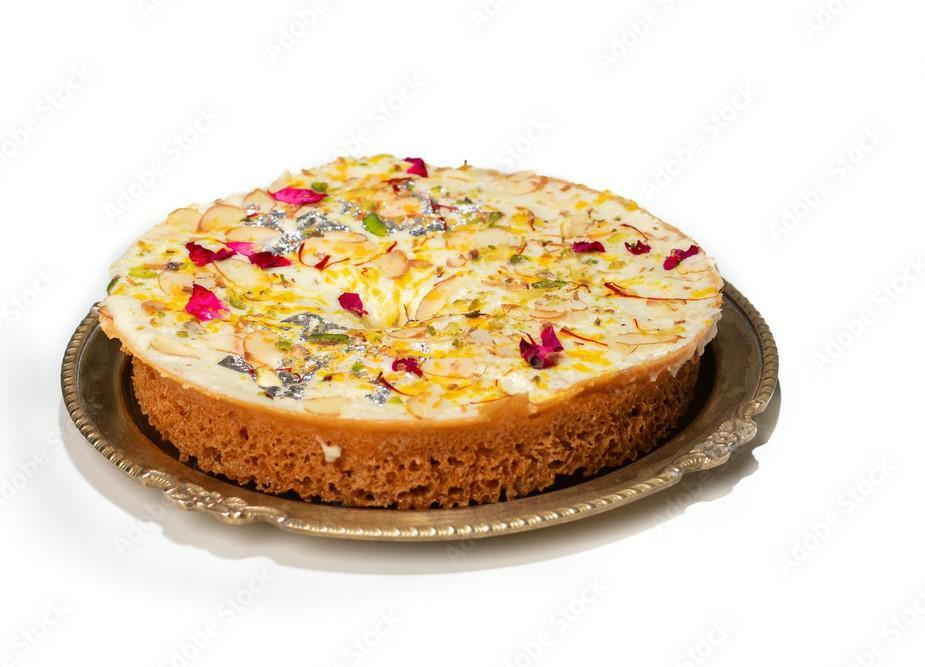Ghevar: (97, 153, 724, 497)
